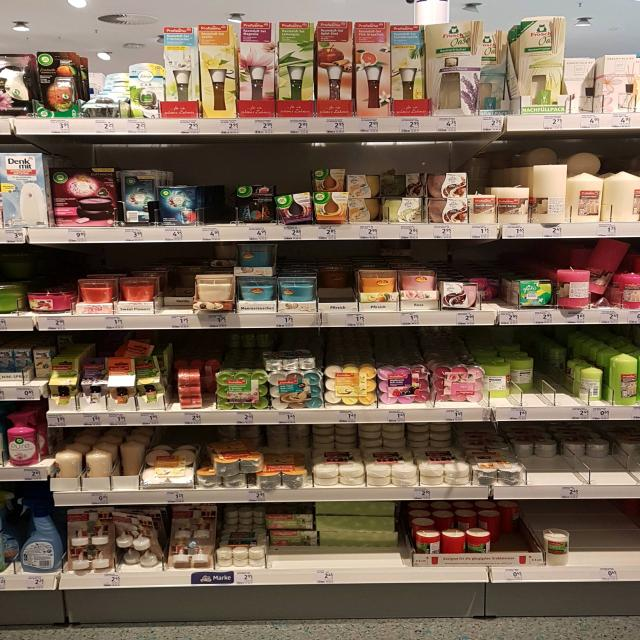empty: (564, 508, 640, 568), (207, 172, 241, 234)
